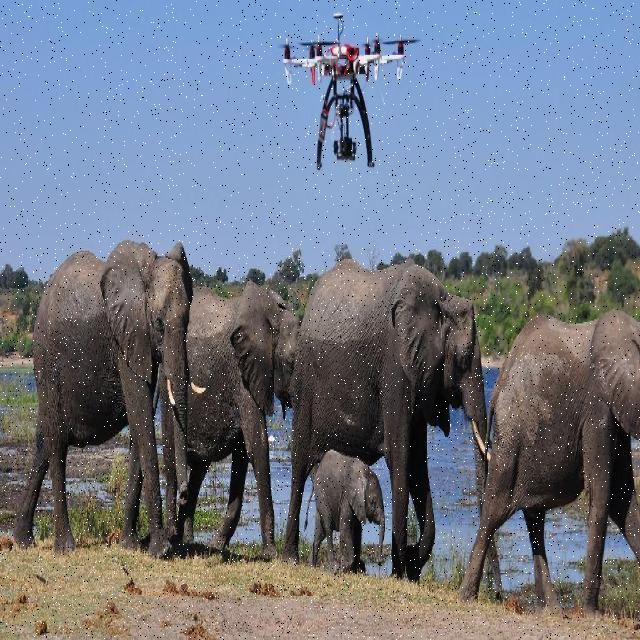UAV: (280, 9, 411, 172)
